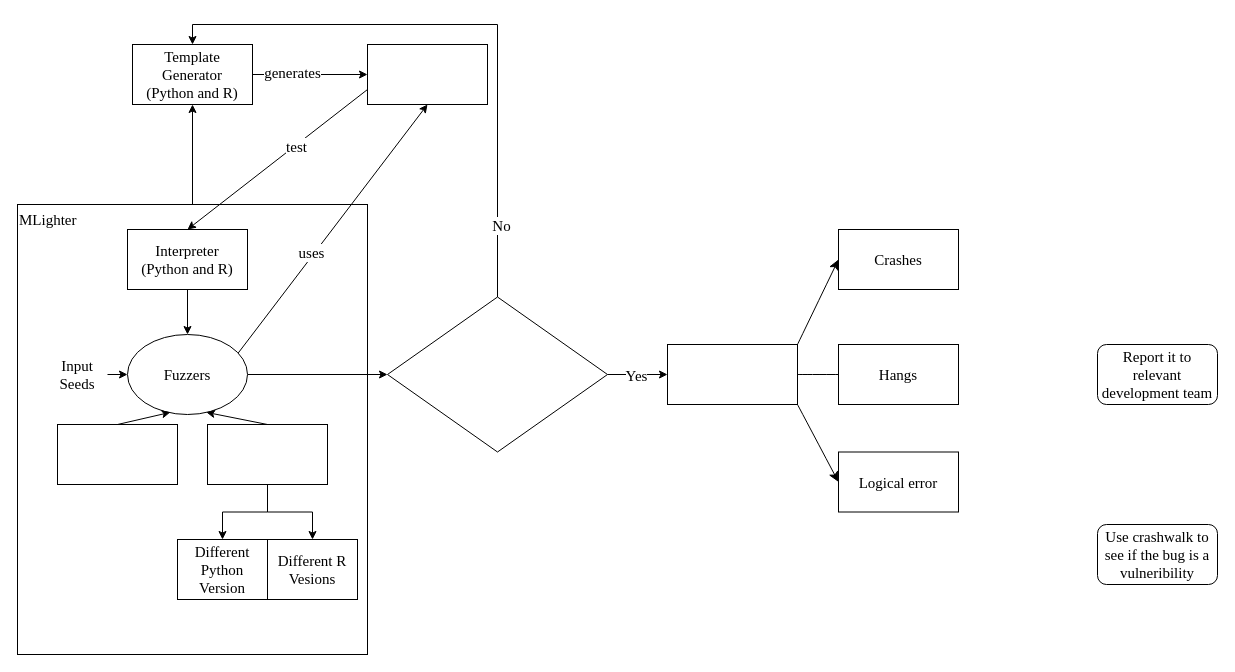
Image size: 1235x672. Some labels were removed from this diagram. Each missing label, with the box of its shape:
Differential Fuzzing: (206, 424, 328, 484)
Mismatches found?: (386, 296, 608, 452)
Normal Fuzzing: (56, 424, 178, 484)
Templates: (366, 44, 488, 104)
Triage with Crashwalk: (666, 344, 798, 404)
